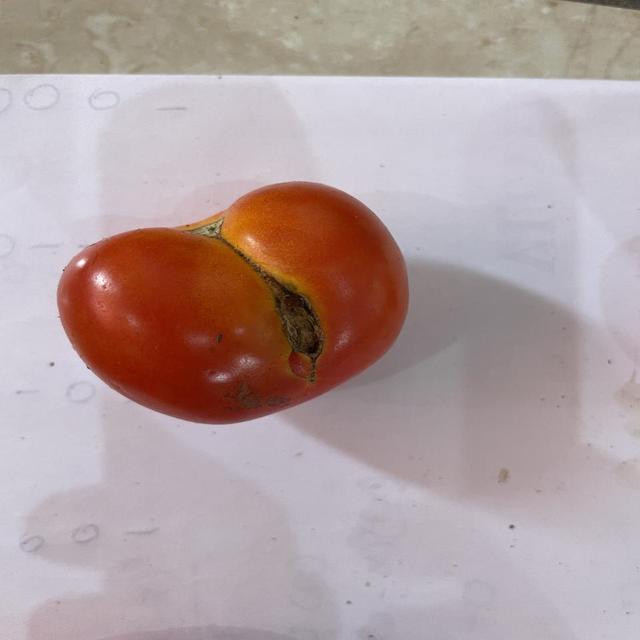Cracking Fruit: (174, 178, 222, 255)
